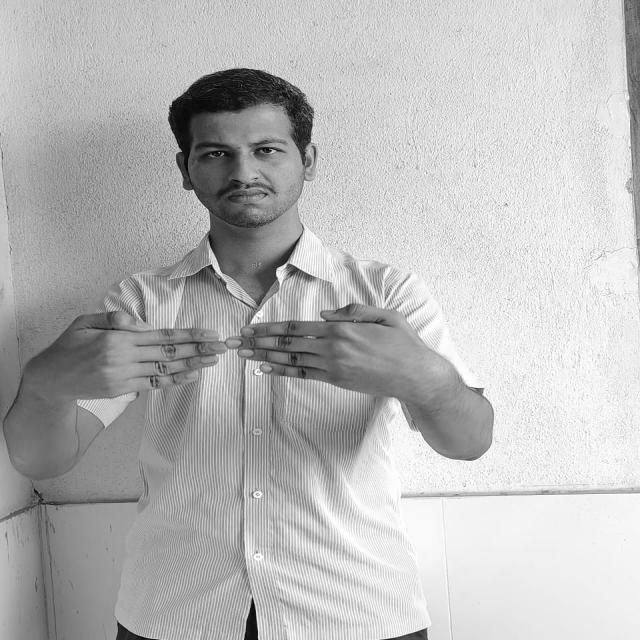Night: (24, 304, 432, 405)
